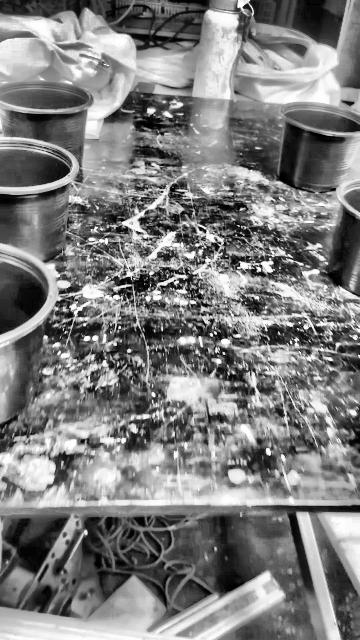pot: (1, 138, 83, 342), (0, 244, 57, 424), (0, 81, 93, 165), (279, 103, 360, 189), (331, 187, 360, 294)
